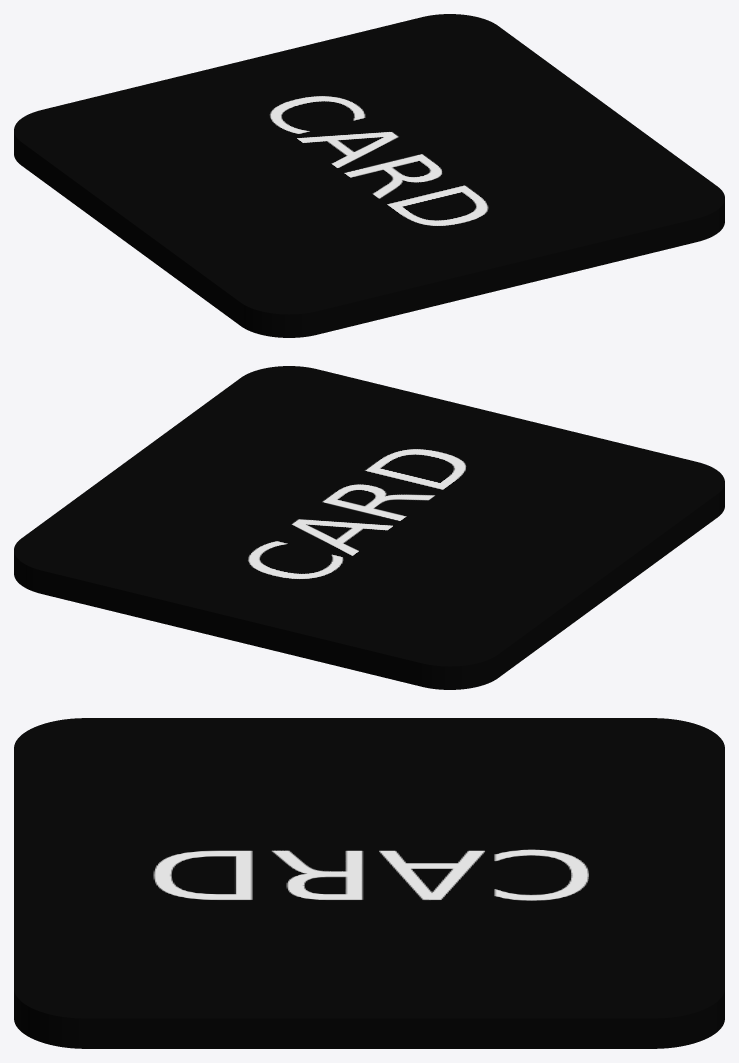
File: Card_Model.fbx
3 views of the same model, one above another, from view 1: azimuth 30°, elevation 25°; view 2: azimuth 150°, elevation 25°; view 3: azimuth 270°, elevation 25° (orthographic). The views are drawn at different scales.
Visible parts, largest first — view 1: Cube; view 2: Cube; view 3: Cube.
Boxes of the visible parts, box(x1,y1,x2,y2) form: Cube: box(14, 14, 724, 337); Cube: box(14, 366, 724, 689); Cube: box(14, 718, 724, 1048).
Size of the model in its own units: 200 by 9.41 by 200.
